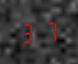seven: (39, 19, 58, 42)
three: (19, 21, 38, 44)
